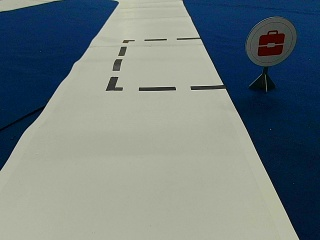company: (246, 16, 297, 65)
